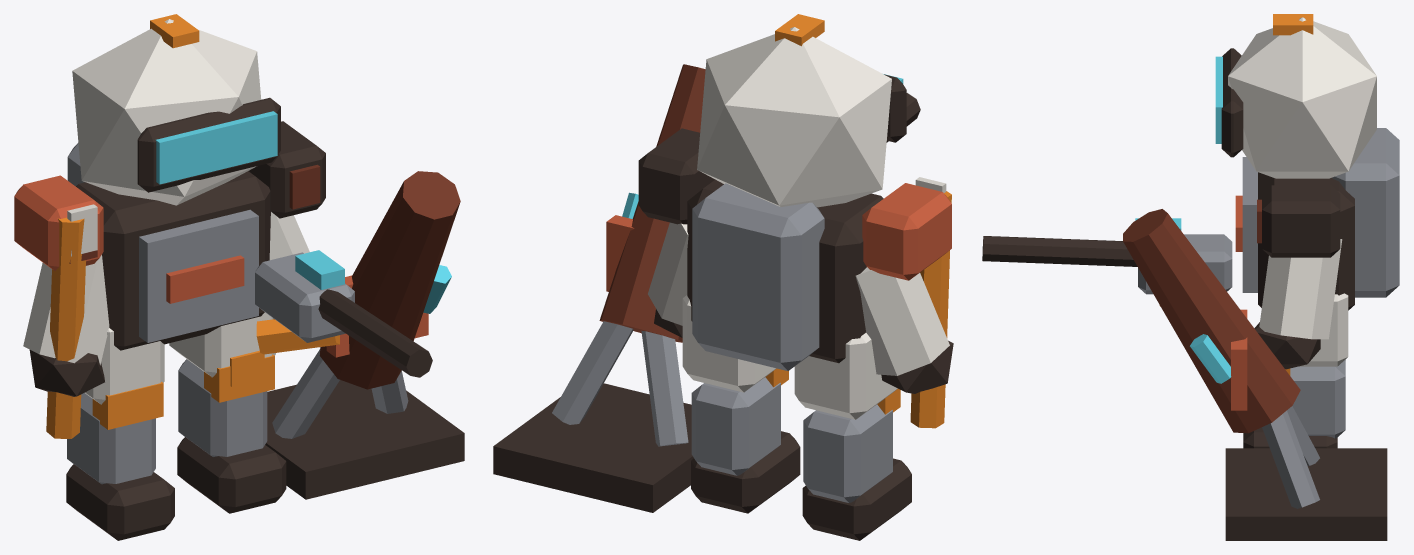
File: u_catapult.glb
3 renders of one model, left to right at view 1: azimuth 30°, elevation 25°; view 2: azimuth 150°, elevation 25°; view 3: azimuth 270°, elevation 25°, orthographic. The views are drawn at different scales.
Parts seen in each view (by area): view 1: u_catapult; view 2: u_catapult; view 3: u_catapult.
Boxes of the visible parts, bbox=[...] form: u_catapult: bbox=[14, 14, 464, 540]; u_catapult: bbox=[493, 14, 953, 540]; u_catapult: bbox=[982, 14, 1399, 540].
Bounding box in the file's own units: 0.2742 × 0.32 × 0.2845.
